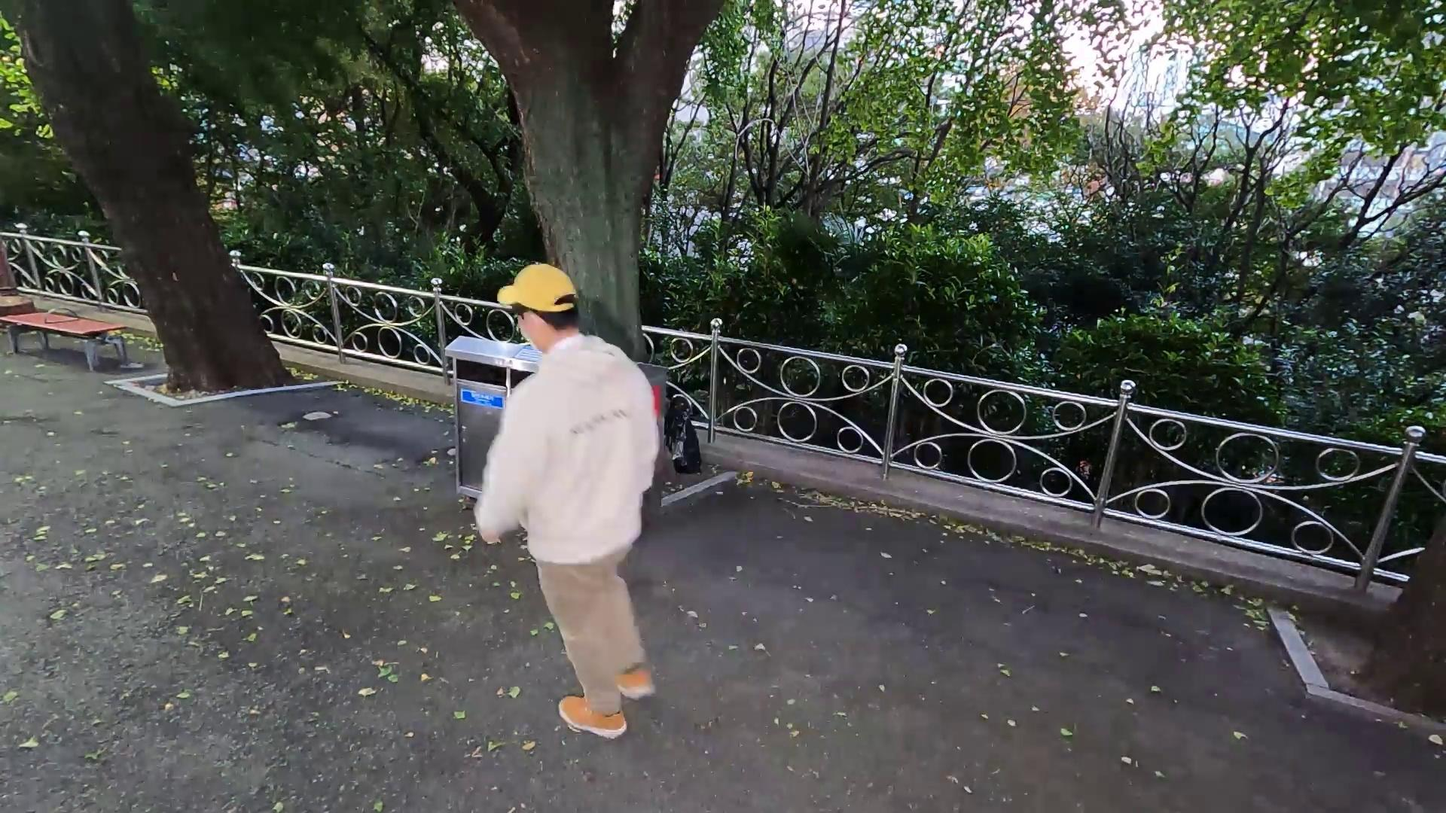person: (469, 263, 678, 750)
trash: (661, 393, 713, 483)
